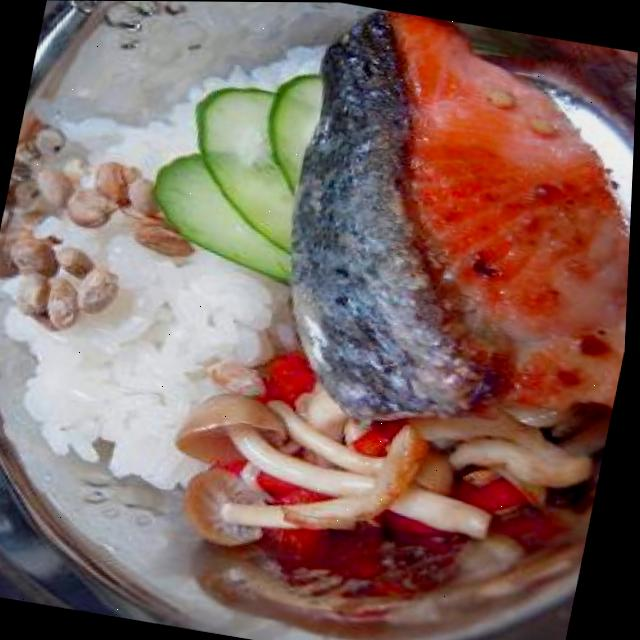熟制海鲜: (226, 1, 640, 451)
